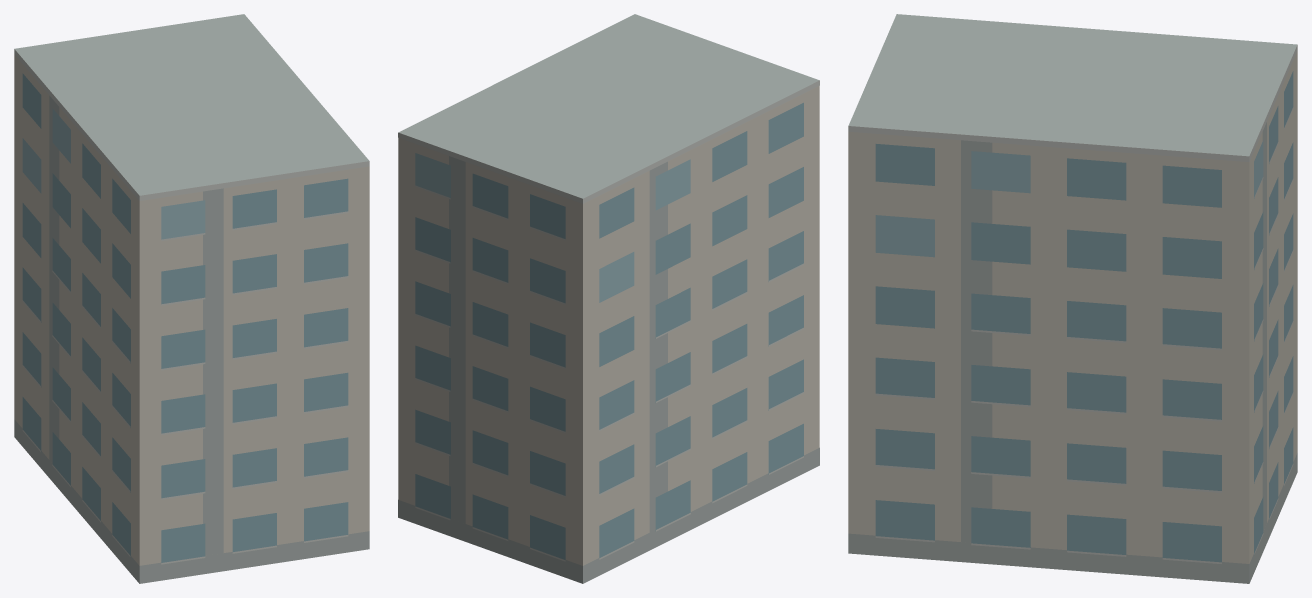
File: survey-upis-32554541.glb
3 renders of one model, left to right at view 1: azimuth 30°, elevation 25°; view 2: azimuth 150°, elevation 25°; view 3: azimuth 270°, elevation 25°, orthographic. The views are drawn at different scales.
Parts seen in each view (by area): view 1: survey-upis-32554541.tmp; view 2: survey-upis-32554541.tmp; view 3: survey-upis-32554541.tmp.
Boxes of the visible parts, x1=… form: survey-upis-32554541.tmp: x1=14, y1=14, x2=369, y2=583; survey-upis-32554541.tmp: x1=398, y1=14, x2=819, y2=583; survey-upis-32554541.tmp: x1=848, y1=14, x2=1297, y2=583.
Size of the model in its own units: 12.79 by 17.9 by 17.05.
